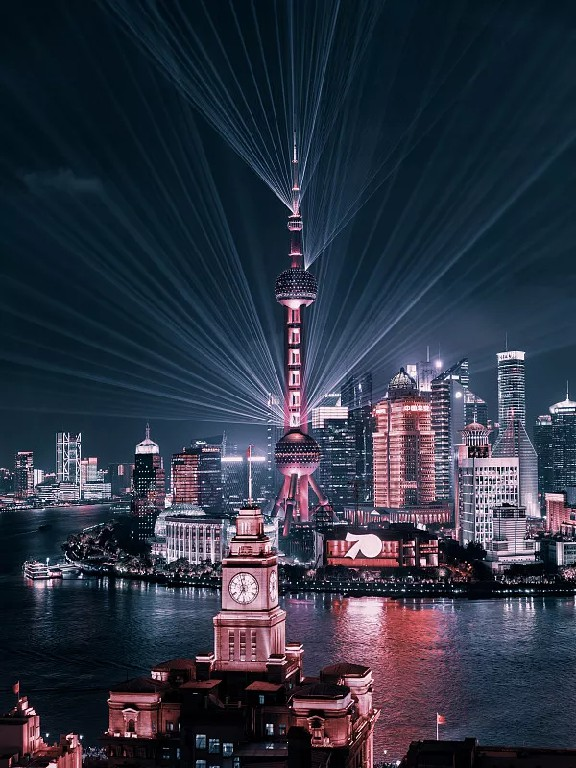Oriental: (271, 131, 339, 536)
